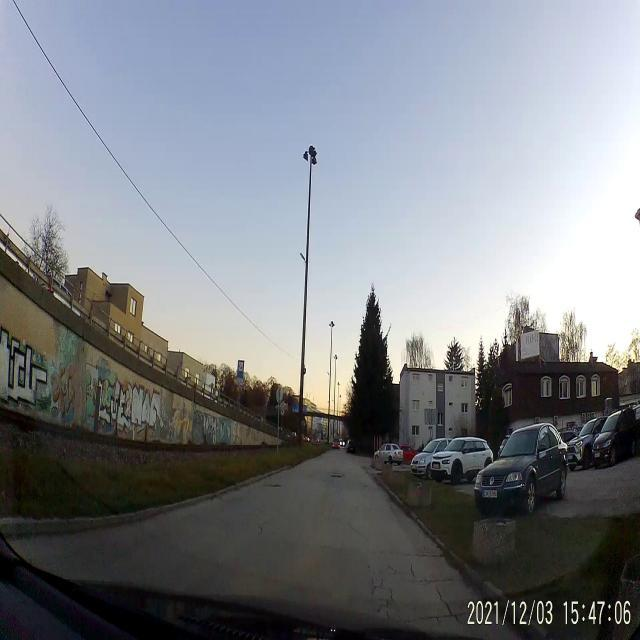Pothole: (264, 482, 282, 490), (329, 472, 344, 480)
